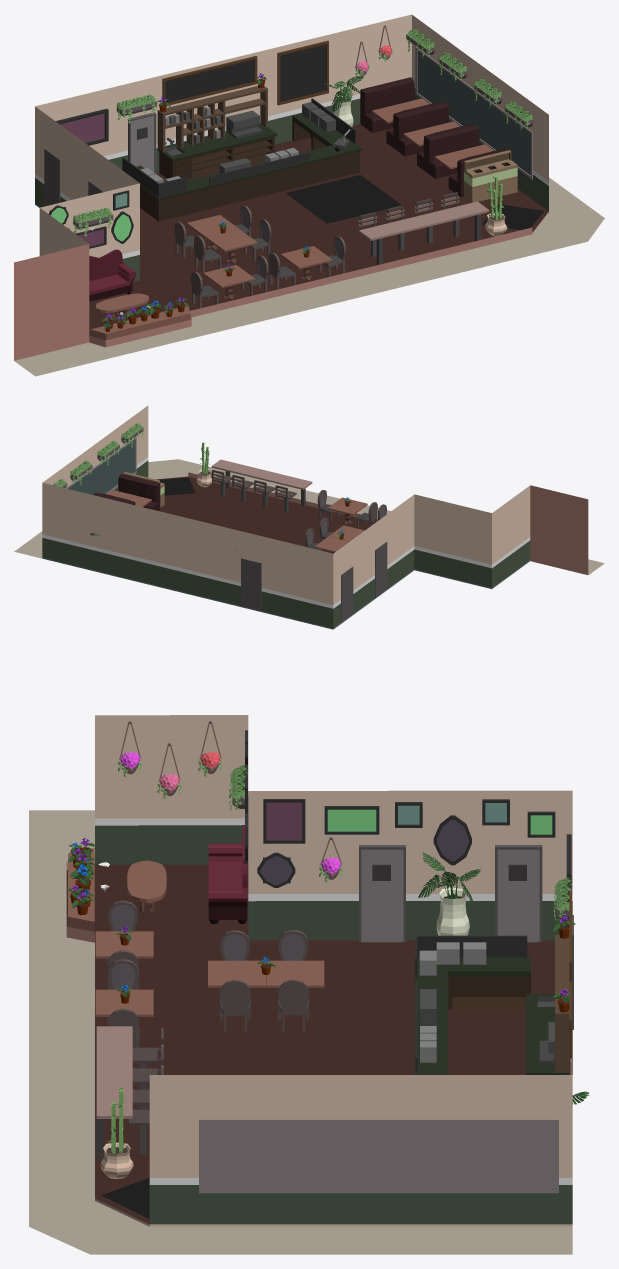
File: Cafe_Layout_Final.fbx
3 views of the same model, one above another, from view 1: azimuth 30°, elevation 25°; view 2: azimuth 150°, elevation 25°; view 3: azimuth 270°, elevation 25° (orthographic). The views are drawn at different scales.
Parts seen in each view (by area): view 1: base, Ordering, window, Working, big rug, shelving, chalk board, cafe name, barriers, bins, window bar, booth seat double (+27 smaller); view 2: base, window, window bar, door.001, booth seat, door.002, door.003, welcome mat, table, table.003; view 3: base, window, Ordering, door.002, door.003, window bar, couch, barriers, picture frame.009, Working, shelving, picture frame.007 (+19 smaller).
Part boxes in pixels (<box>): base: <box>14,14,604,376</box>; Ordering: <box>136,113,362,221</box>; window: <box>415,47,532,179</box>; Working: <box>158,123,277,179</box>; big rug: <box>285,175,401,223</box>; shelving: <box>157,86,267,152</box>; chalk board: <box>277,40,328,105</box>; cafe name: <box>162,56,257,104</box>; barriers: <box>122,98,356,197</box>; bins: <box>464,150,517,202</box>; window bar: <box>359,201,489,265</box>; booth seat double: <box>417,124,479,178</box>; base: <box>14,405,604,629</box>; window: <box>66,437,136,494</box>; window bar: <box>211,459,312,506</box>; door.001: <box>241,558,261,610</box>; booth seat: <box>118,474,160,510</box>; door.002: <box>375,542,387,597</box>; door.003: <box>341,566,353,622</box>; welcome mat: <box>159,477,195,495</box>; table: <box>327,497,367,524</box>; table.003: <box>314,536,349,553</box>; base: <box>29,715,572,1254</box>; window: <box>199,1119,558,1193</box>; Ordering: <box>414,956,530,1074</box>; door.002: <box>359,845,405,942</box>; door.003: <box>495,845,542,942</box>; window bar: <box>96,1026,132,1159</box>; couch: <box>208,825,247,924</box>; barriers: <box>415,935,527,1070</box>; picture frame.009: <box>263,799,305,843</box>; Working: <box>526,994,569,1074</box>; shelving: <box>555,934,569,1072</box>; picture frame.007: <box>324,806,379,834</box>.
Size of the model in its own units: 30060 by 4799 by 16045.
